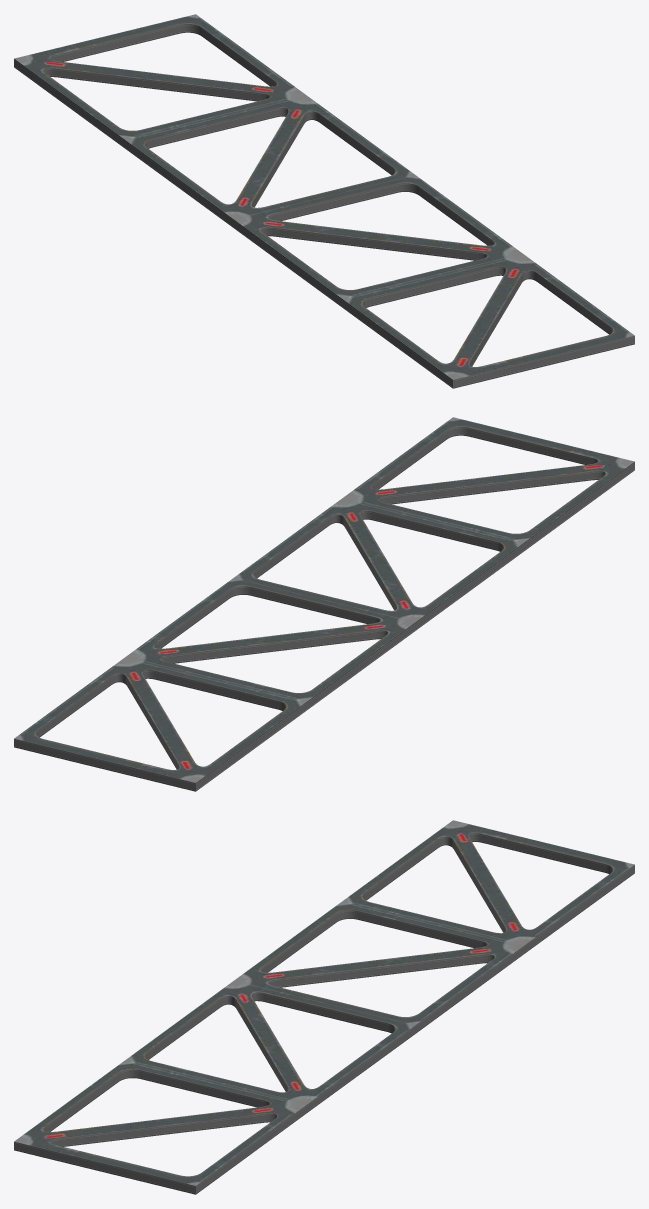
File: Column_MetalSupport.glb
The picture shows the model from 3 angles, top to bottom: view 1: azimuth 30°, elevation 25°; view 2: azimuth 150°, elevation 25°; view 3: azimuth 330°, elevation 25°; orthographic projection.
Visible parts, largest first — view 1: Column_MetalSupport; view 2: Column_MetalSupport; view 3: Column_MetalSupport.
Part boxes in pixels (x1,y1,x2,y2): Column_MetalSupport: [14, 14, 634, 388]; Column_MetalSupport: [14, 417, 634, 791]; Column_MetalSupport: [14, 820, 634, 1194].
Bounding box in the file's own units: 0.9566 × 0.0439 × 4.
Materials: 2 (2 with a texture image).
